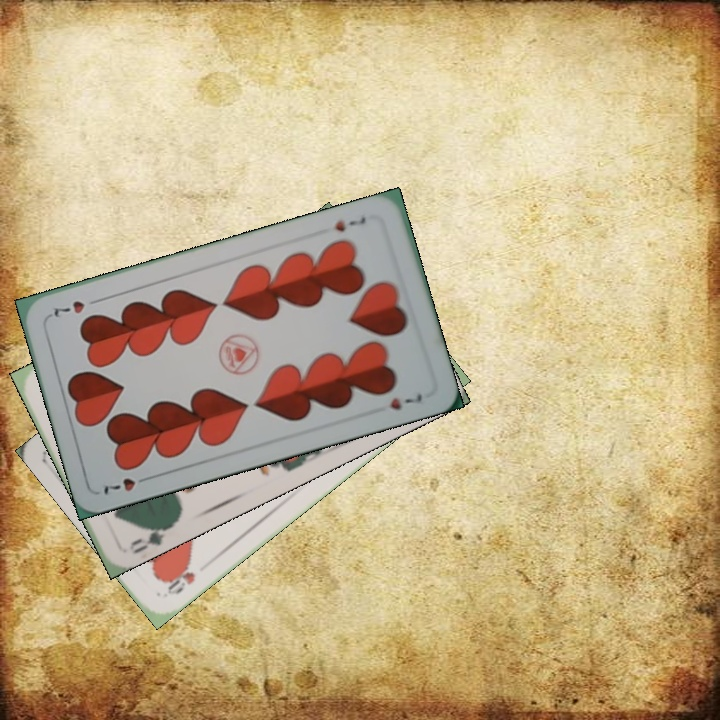GO: (124, 518, 178, 557)
H7: (98, 471, 155, 497), (331, 212, 369, 235)
HO: (161, 558, 198, 599)
